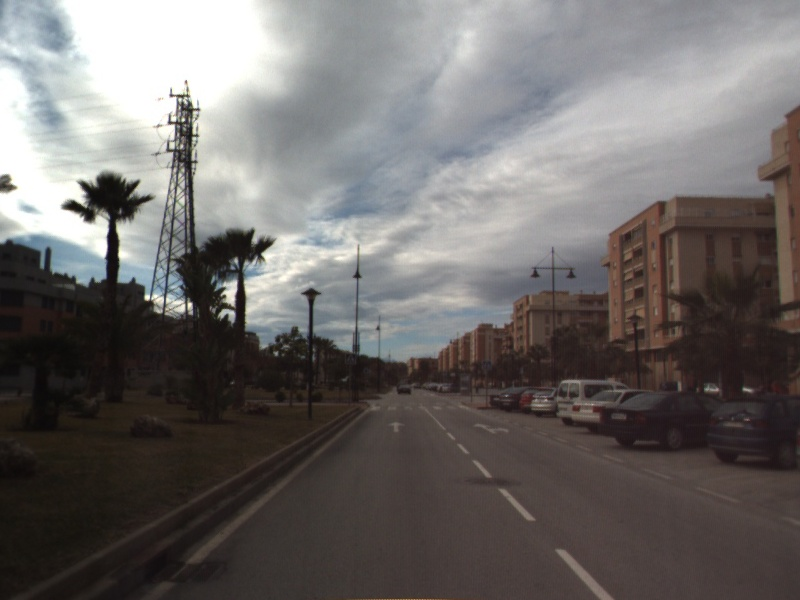STRAIGHT: (386, 419, 407, 434)
STRAIGHT_RIGHT: (471, 421, 511, 435)
